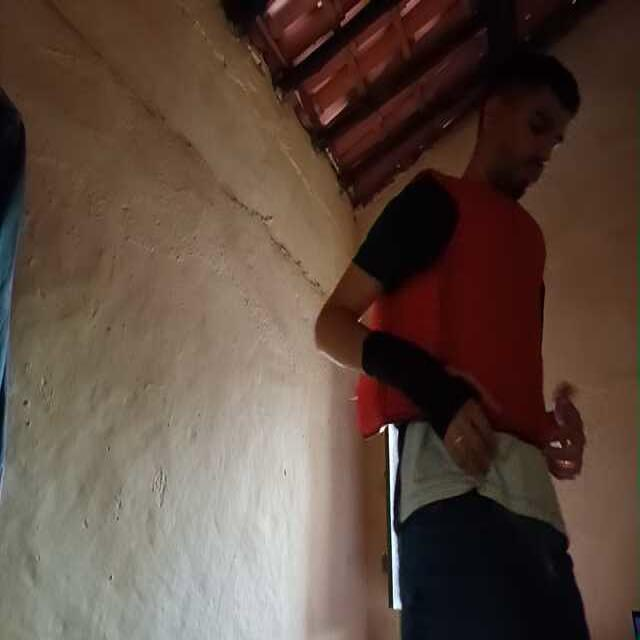colete: (381, 171, 552, 458)
pessoa: (349, 48, 610, 640)
